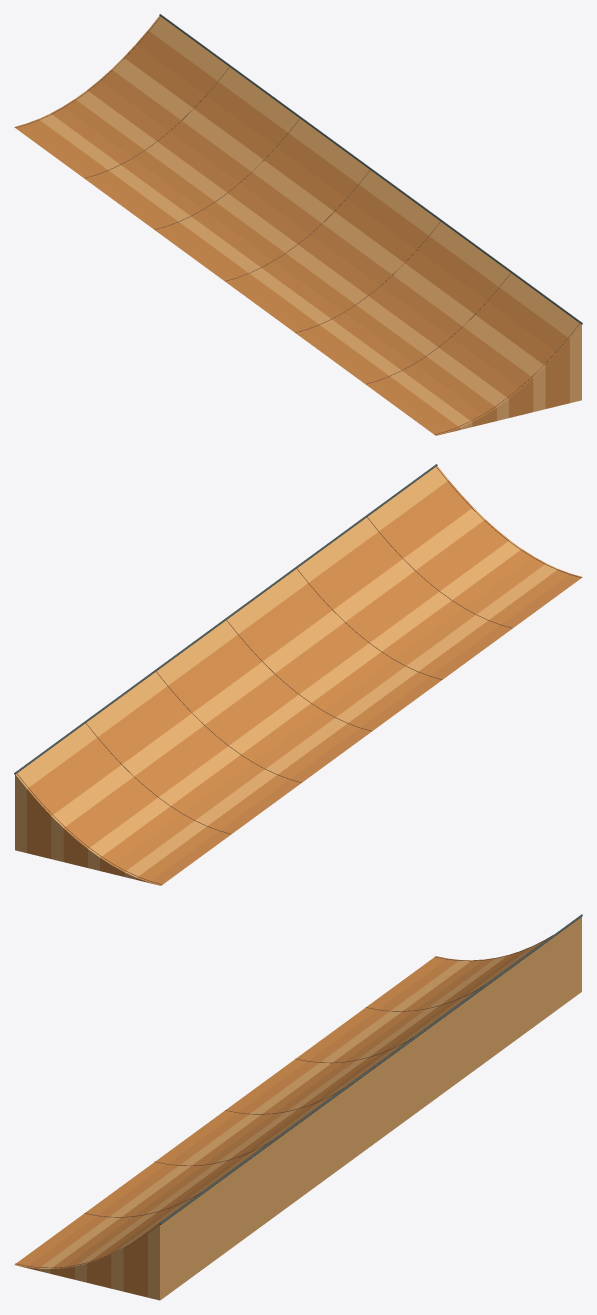
Rendered from wsc-kit-003-d7-launch-wall.glb.
The picture shows the model from 3 angles, top to bottom: view 1: azimuth 30°, elevation 25°; view 2: azimuth 150°, elevation 25°; view 3: azimuth 330°, elevation 25°; orthographic projection.
Parts seen in each view (by area): view 1: D7_Launch_Wall_45m; view 2: D7_Launch_Wall_45m; view 3: D7_Launch_Wall_45m.
Boxes of the visible parts, x1,y1,x2,y2 form: D7_Launch_Wall_45m: [14, 14, 582, 435]; D7_Launch_Wall_45m: [14, 464, 582, 885]; D7_Launch_Wall_45m: [14, 914, 582, 1300].
Bounding box in the file's own units: 9.06 × 4.55 × 45.
